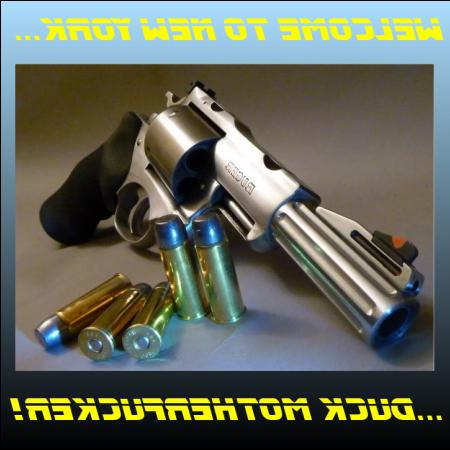Pistol: (40, 94, 428, 351)
